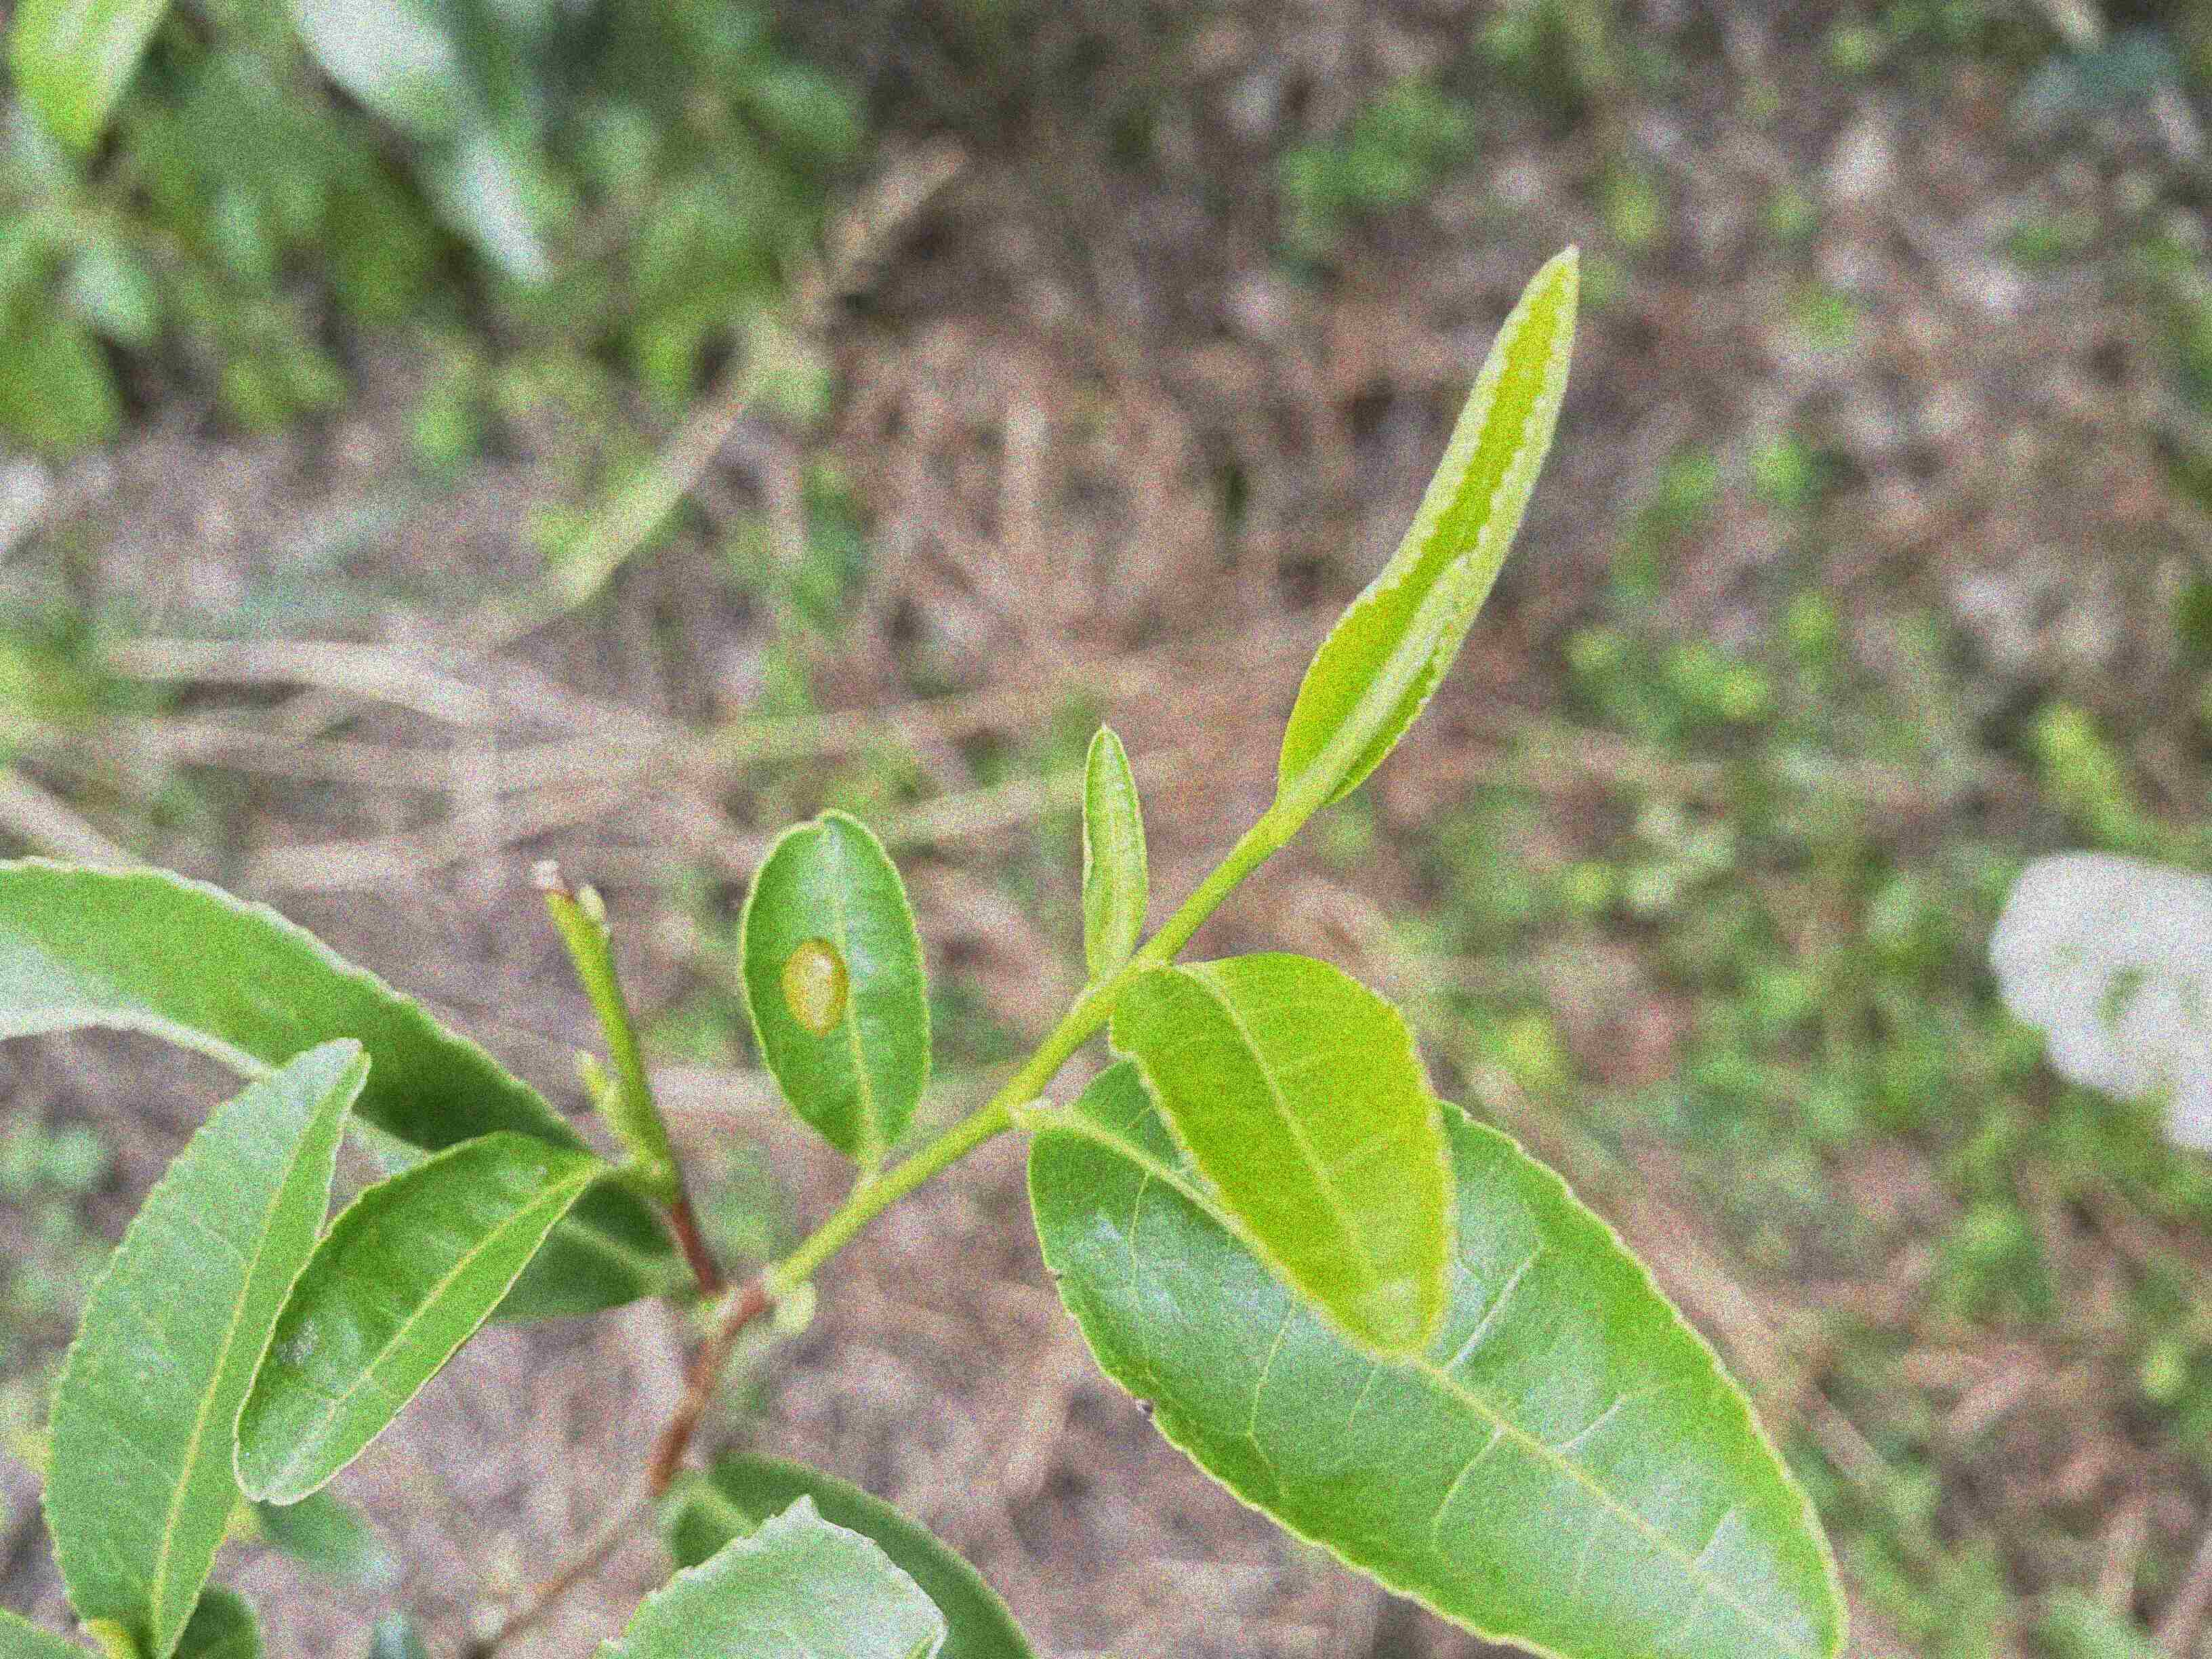chabing_low: (737, 807, 932, 1154)
healthy: (37, 1035, 371, 1657), (1277, 246, 1585, 810), (232, 1127, 611, 1509), (1108, 946, 1458, 1352)
tanju_low: (1029, 1039, 1851, 1659)
